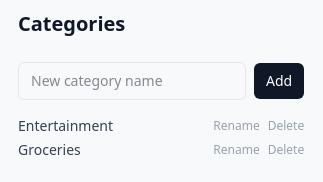
it: CategoriesPage › shows inline rename input when Rename is clicked
Expected: the text "Entertainment" is shown, [18,116,113,135]
Click the button with aria-label "rename entertainment" at (236, 126), box [213,118,260,134]
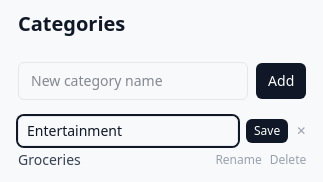
Now the field named "rename category" is shown, box [18,116,238,146]
